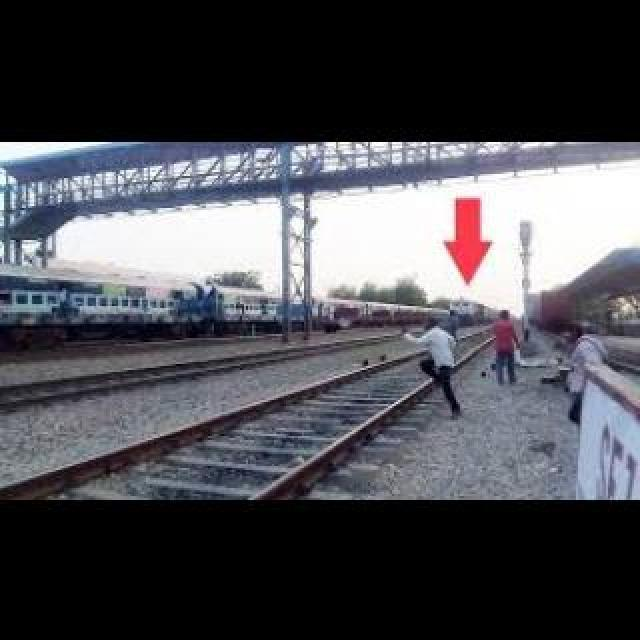people: (410, 320, 472, 418), (488, 308, 526, 388)
